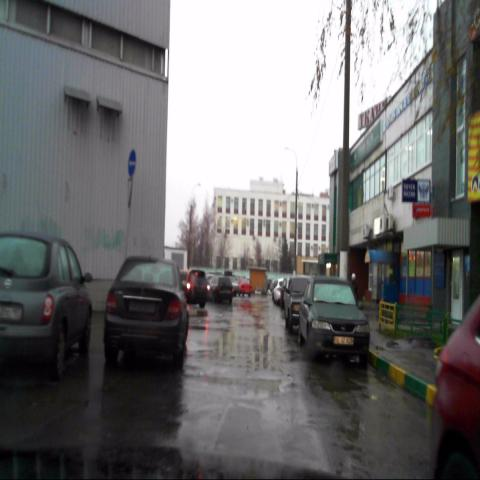4_1_2_2: (128, 148, 136, 178)
